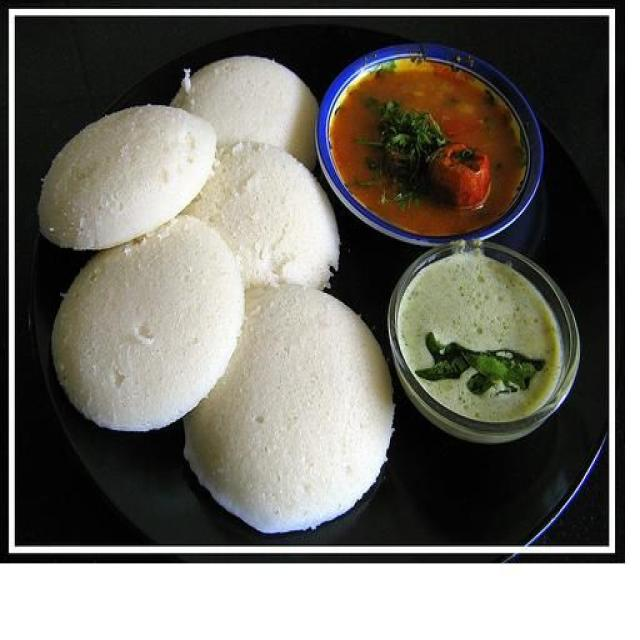chutney: (396, 242, 574, 439)
idli: (44, 65, 360, 515)
sambhar: (338, 39, 534, 222)
